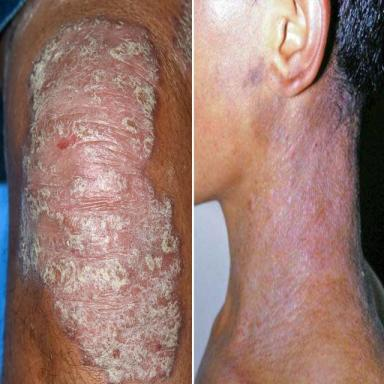Psoriasis: (18, 17, 181, 384)
